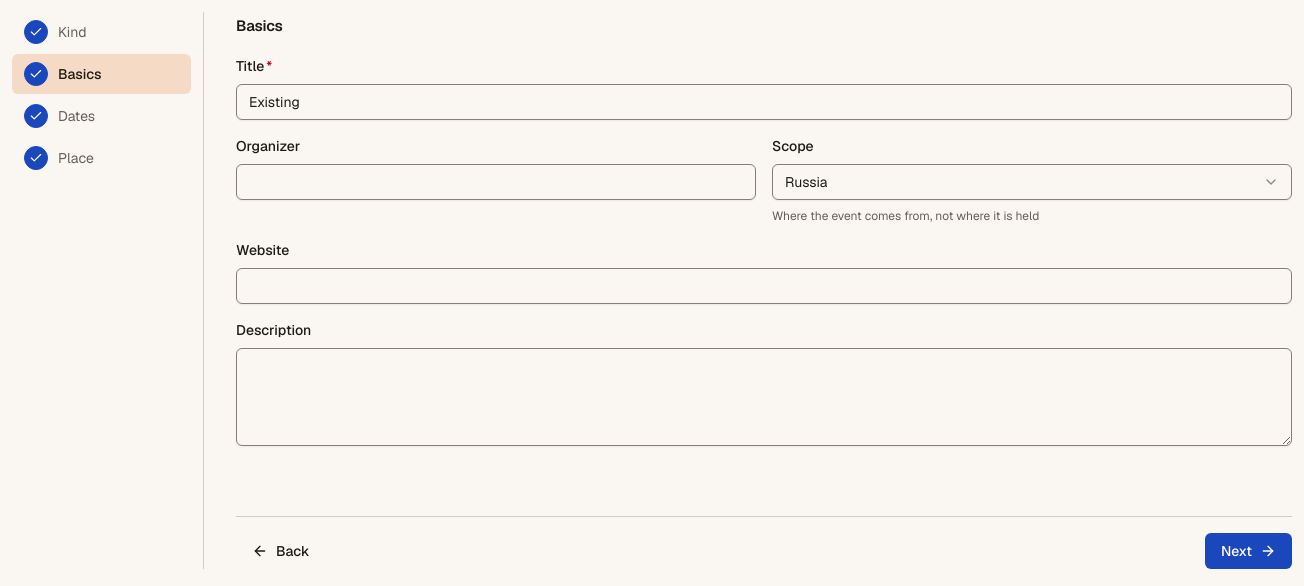
the place fields follow the format on both forms › shows the country for an on-site meetup as well
The width and height of the screenshot is (1304, 586).
Click the button "Place".
click(102, 158)  # box [12,138,191,178]
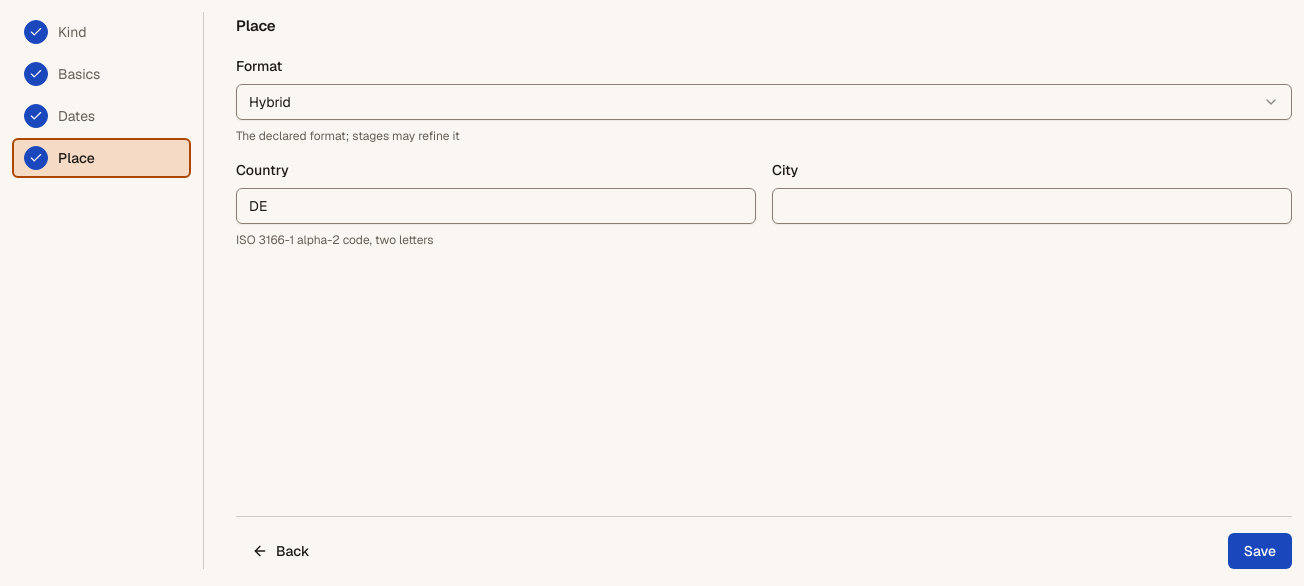
Expected: the field with id "event-country" holds "DE", [236,188,756,224]
